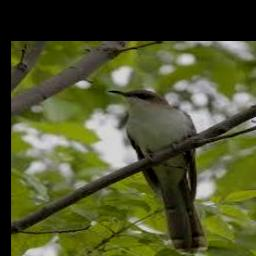Cuckoo: (108, 89, 208, 253)
